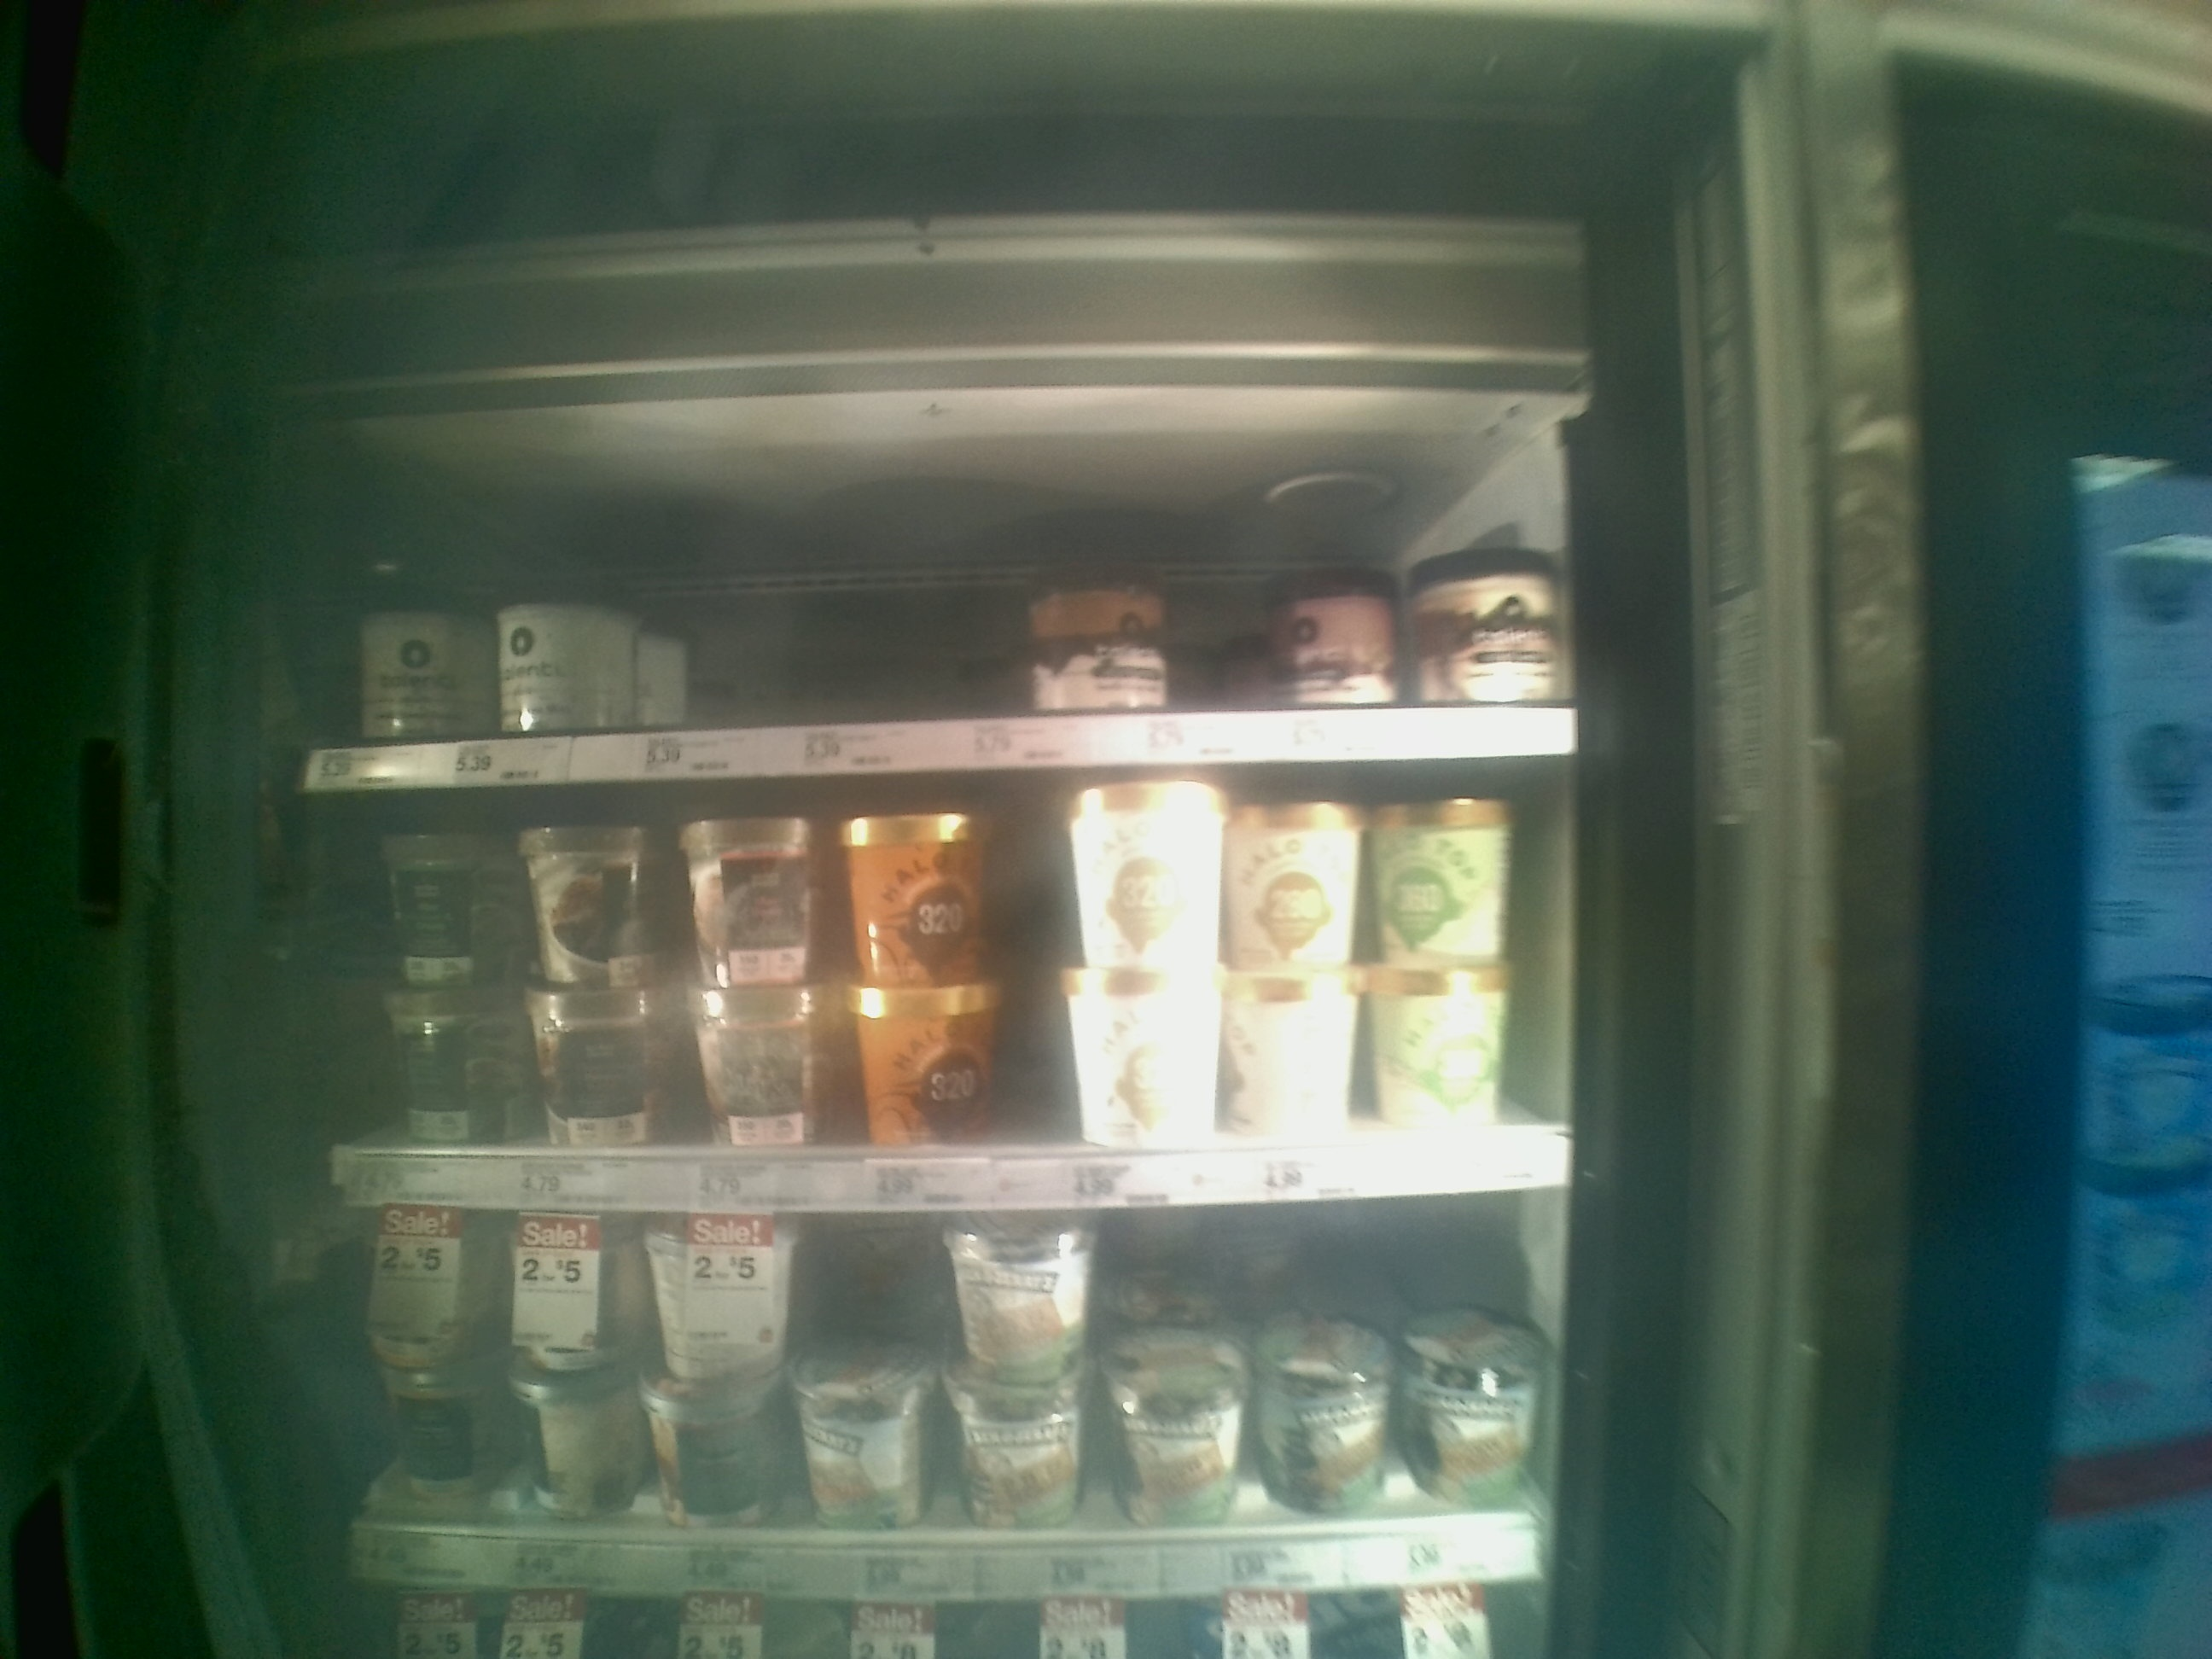shelf: (298, 772, 1578, 1199), (291, 1202, 1561, 1593), (303, 443, 1583, 774)
